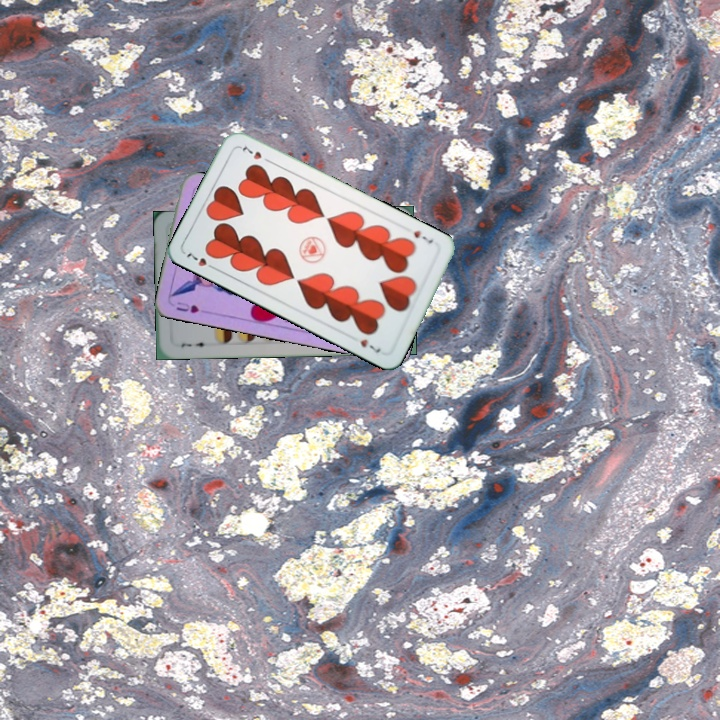E7: (177, 338, 211, 350)
H7: (182, 247, 219, 273), (409, 226, 436, 246)
HU: (172, 298, 201, 316)
